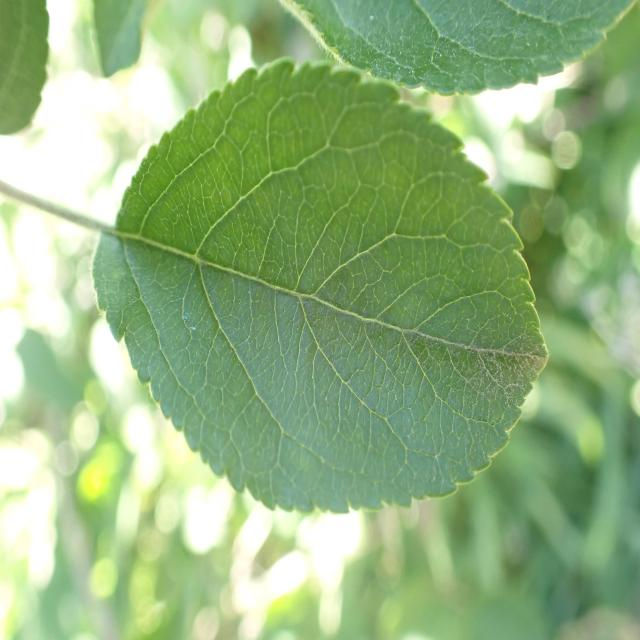healthy: (91, 56, 548, 516), (282, 0, 636, 97)
